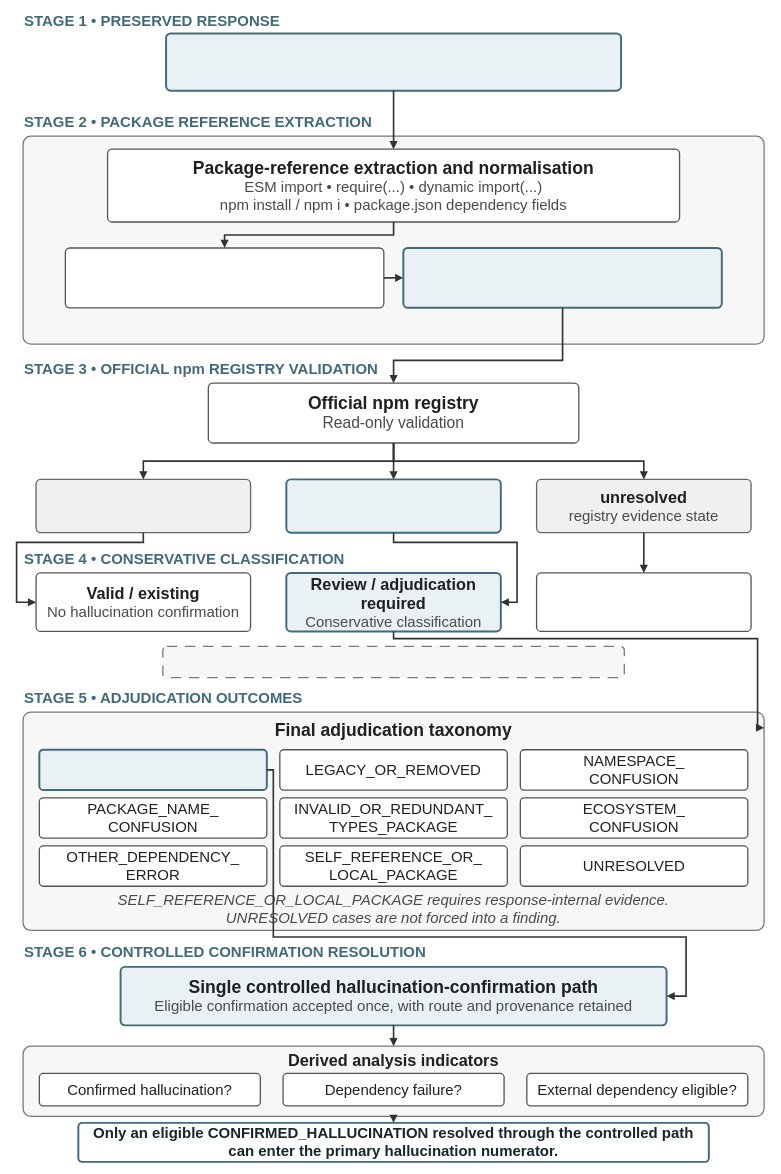
This 781x1174 diagram has some shape labels left out. The centre of each missing label's shape, as x and y in pixels:
"CONFIRMED_ HALLUCINATION" belongs at point (152, 769).
"exists registry evidence state" belongs at point (143, 505).
"Normalised root npm package name Scoped name retained; subpath reduced to root" belongs at point (224, 277).
"not_found registry evidence state" belongs at point (393, 505).
"Preserved eligible response Completed response used for primary analysis" belongs at point (393, 61).
"Safeguard: Registry evidence alone does not establish hallucination." belongs at point (393, 661).
"Unique analytical unit (run_id, normalized_package)" belongs at point (562, 277).
"Unresolved evidence No registry conclusion" belongs at point (643, 602).
